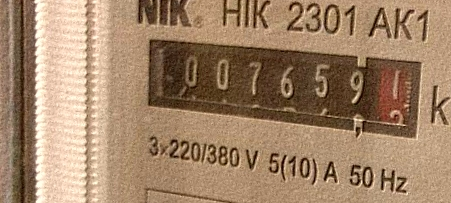0: (210, 53, 235, 95), (180, 51, 204, 91)
1: (384, 64, 407, 103)
5: (308, 59, 335, 102)
6: (274, 59, 301, 103)
7: (241, 56, 268, 98)
9: (344, 66, 369, 108)
screen: (131, 23, 432, 149)
